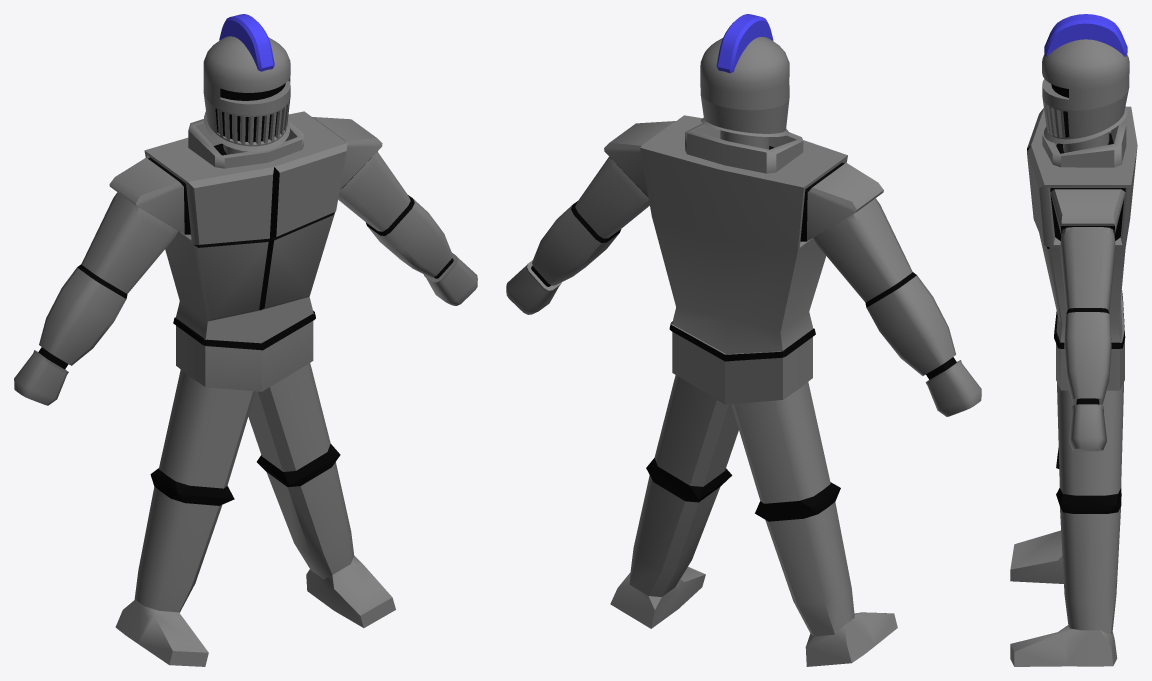
Rendered from Rigged_Knight02.fbx.
3 renders of one model, left to right at view 1: azimuth 30°, elevation 25°; view 2: azimuth 150°, elevation 25°; view 3: azimuth 270°, elevation 25°, orthographic. The views are drawn at different scales.
Visible parts, largest first — view 1: Armor Helmet; view 2: Armor Helmet; view 3: Armor Helmet.
Part boxes in pixels (x1,y1,x2,y2): Armor Helmet: (14,14,477,666); Armor Helmet: (506,14,981,666); Armor Helmet: (1010,14,1137,666).
Size of the model in its own units: 139 by 176 by 33.55.
